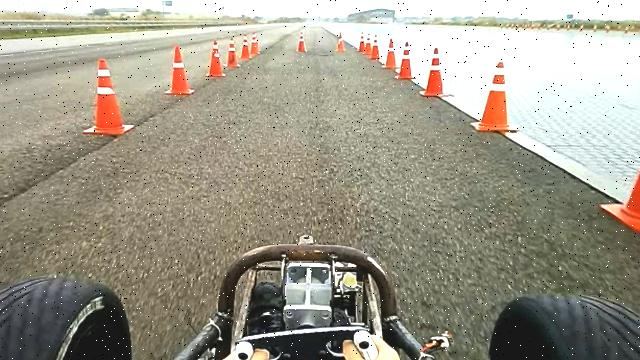red cone: (83, 58, 135, 136), (471, 61, 519, 132), (164, 45, 195, 95), (420, 46, 450, 96), (394, 40, 416, 80), (206, 40, 226, 78), (381, 37, 399, 69), (224, 36, 242, 68), (239, 33, 252, 60), (370, 33, 381, 59)
